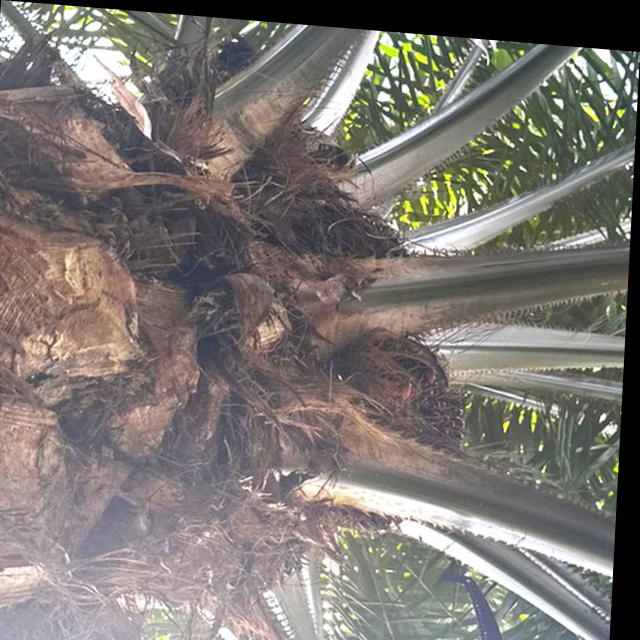ripe: (291, 303, 489, 570)
